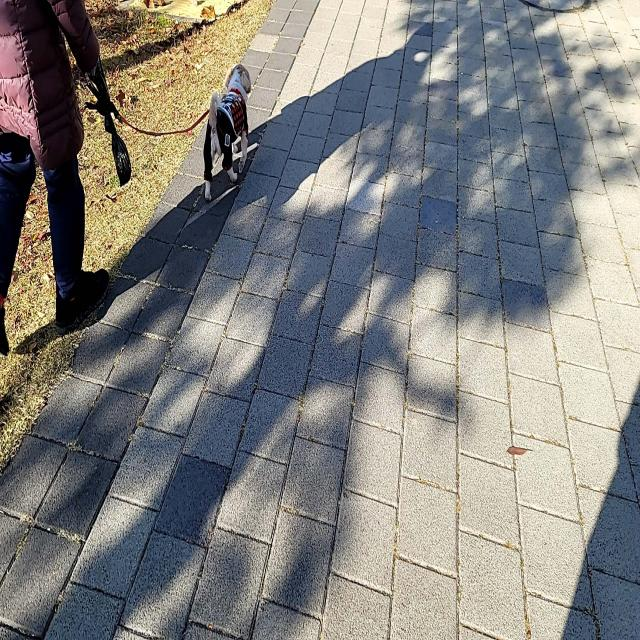Leashed_Dog: (44, 42, 250, 202)
